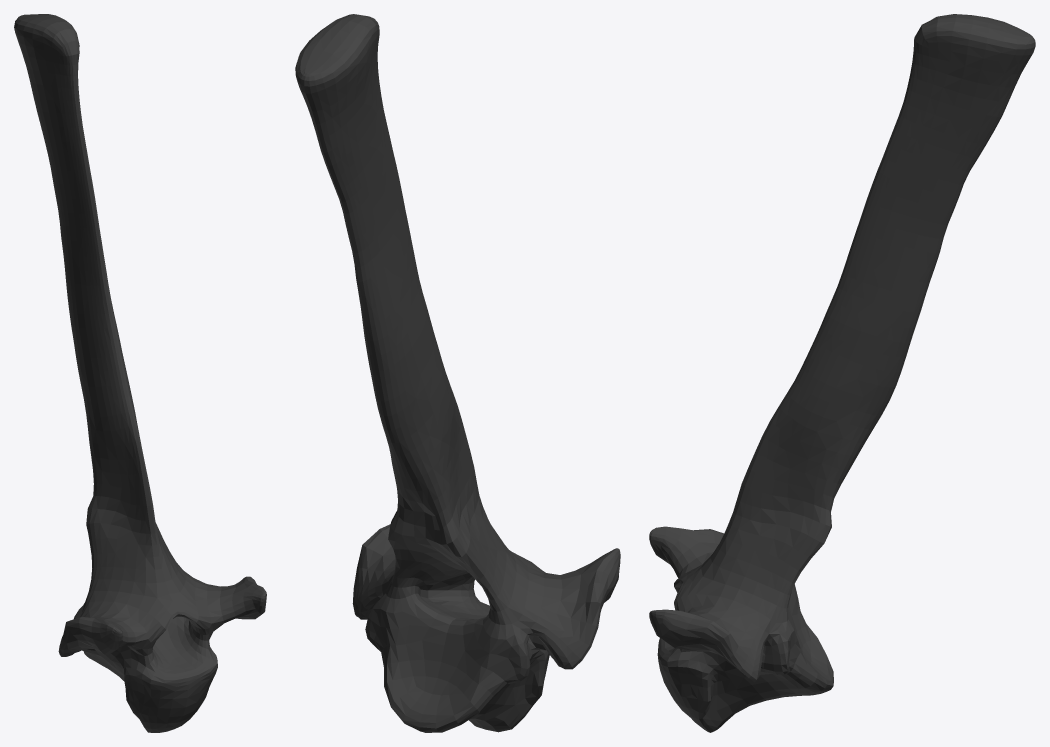
3 views of the same model, side by side, from view 1: azimuth 30°, elevation 25°; view 2: azimuth 150°, elevation 25°; view 3: azimuth 270°, elevation 25° (orthographic). The views are drawn at different scales.
Visible parts, largest first — view 1: b_T2_LO; view 2: b_T2_LO; view 3: b_T2_LO.
Part boxes in pixels (<box>): b_T2_LO: <box>14,14,266,732</box>; b_T2_LO: <box>295,14,620,732</box>; b_T2_LO: <box>649,14,1035,732</box>.
Bounding box in the file's own units: 0.001 × 0.00323 × 0.0016.
1 material, 1 textured.
